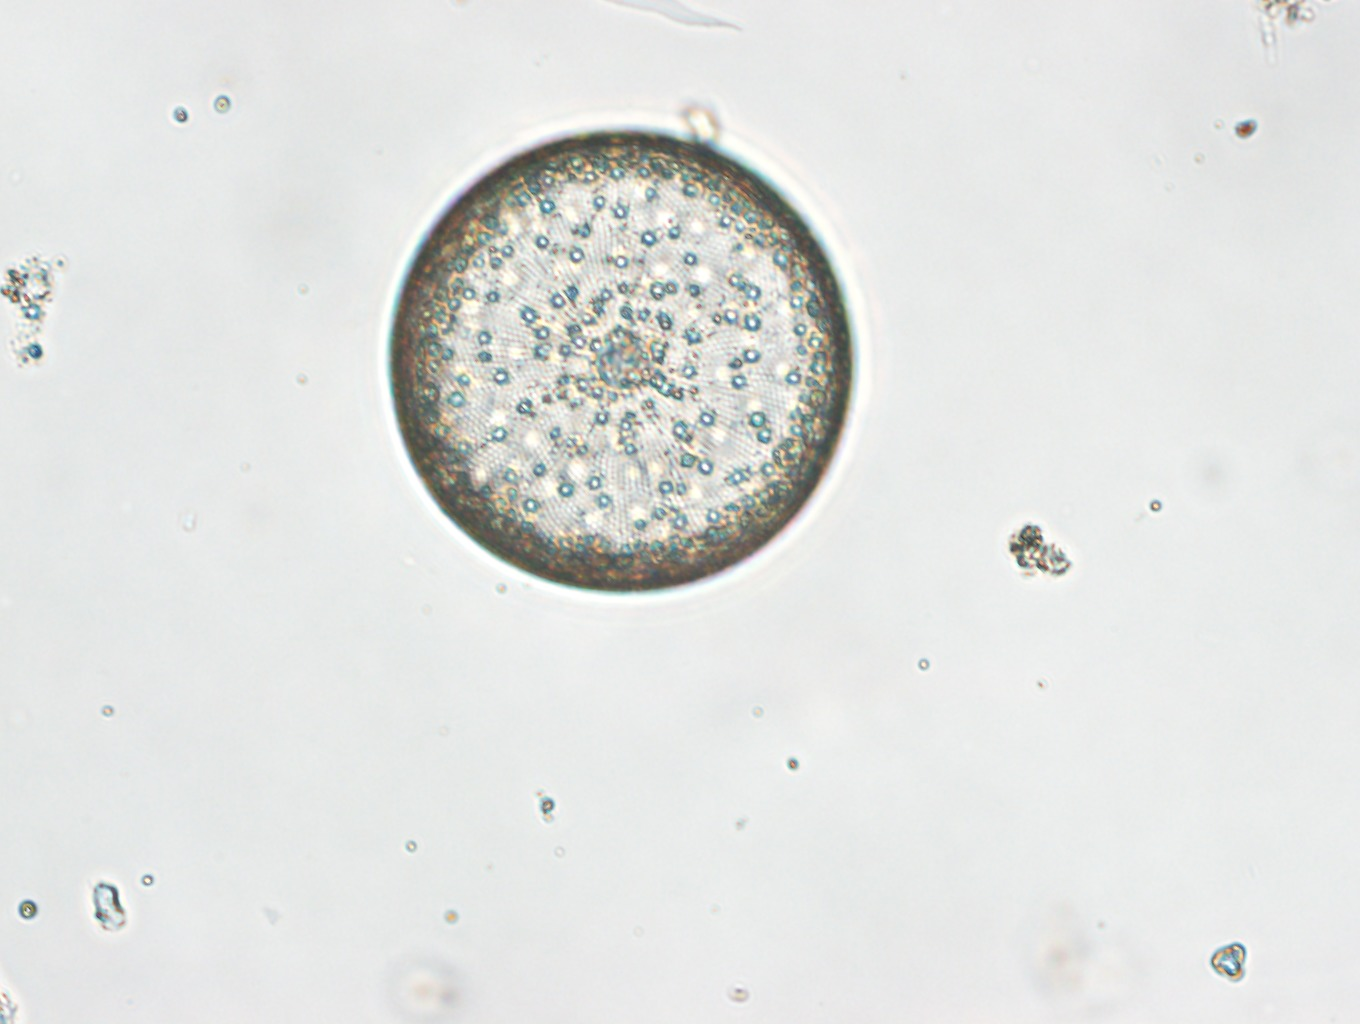coscinodiscus: (383, 122, 855, 595)
